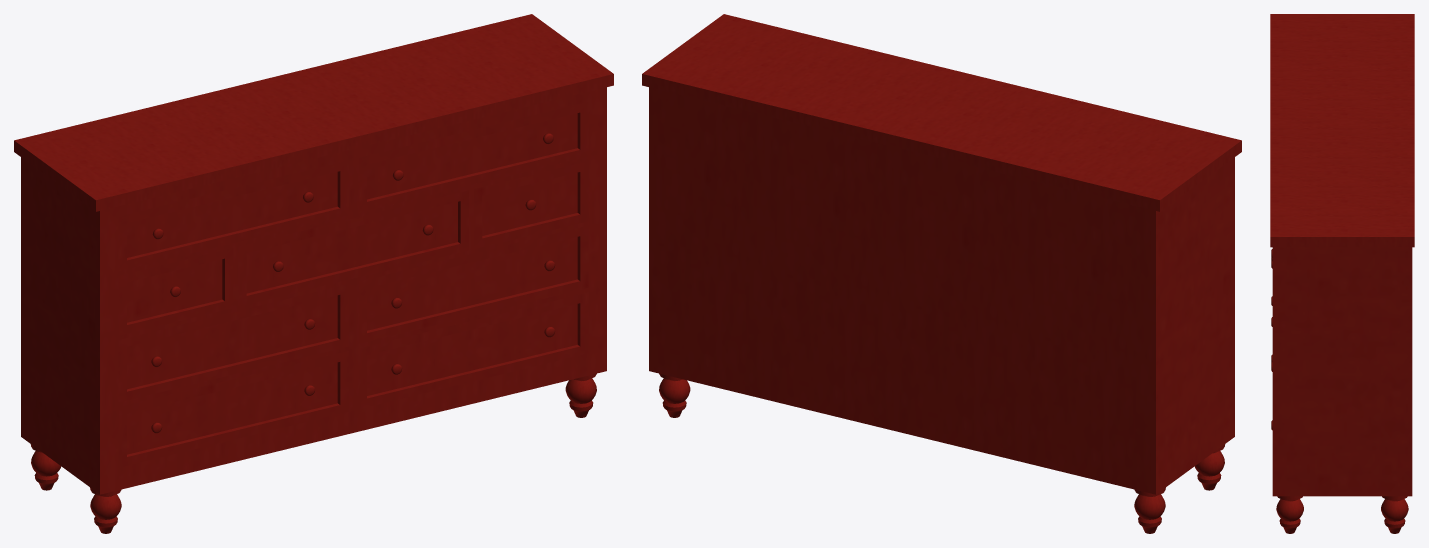
The model's file is Drawer32.fbx.
3 views of the same model, side by side, from view 1: azimuth 30°, elevation 25°; view 2: azimuth 150°, elevation 25°; view 3: azimuth 270°, elevation 25° (orthographic). The views are drawn at different scales.
Parts seen in each view (by area): view 1: Drawer32_Body, Drawer32_6, Drawer32_7, Drawer32_8, Drawer32_9, Drawer32_4, Drawer32_2, Drawer32_1, Drawer32_3, Drawer32_5; view 2: Drawer32_Body; view 3: Drawer32_Body.
Boxes of the visible parts, x1,y1,x2,y2 form: Drawer32_Body: (14, 14, 613, 533); Drawer32_6: (118, 284, 348, 402); Drawer32_7: (358, 225, 588, 343); Drawer32_8: (118, 351, 348, 467); Drawer32_9: (358, 292, 588, 408); Drawer32_4: (238, 190, 468, 306); Drawer32_2: (358, 102, 588, 212); Drawer32_1: (118, 160, 348, 270); Drawer32_3: (118, 248, 233, 335); Drawer32_5: (474, 161, 588, 248); Drawer32_Body: (642, 14, 1241, 533); Drawer32_Body: (1270, 14, 1414, 533).
Bounding box in the file's own units: 189 × 120 × 51.81.
